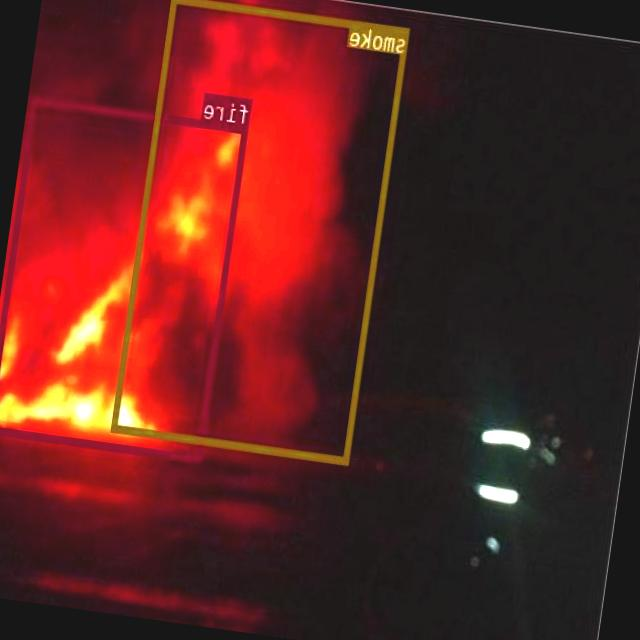fire: (0, 96, 249, 463)
smoke: (113, 0, 411, 464)
